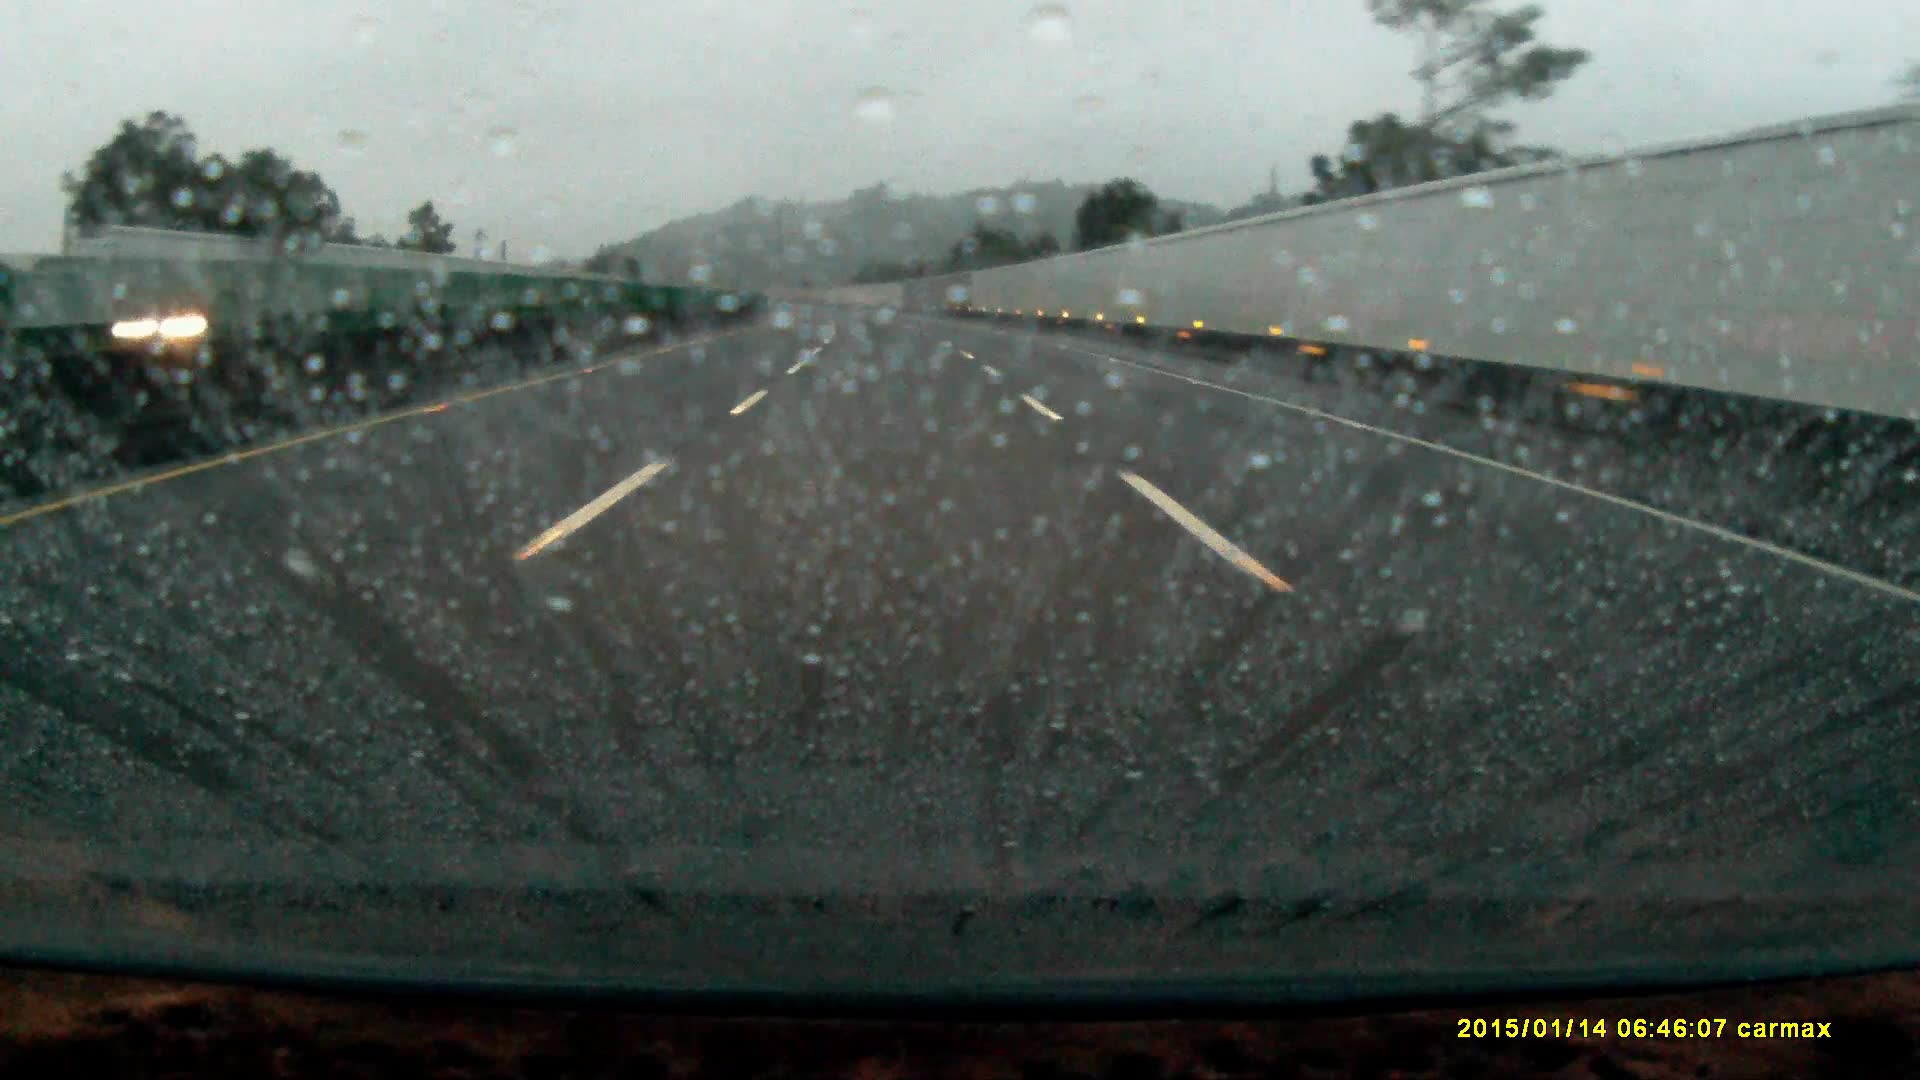vehicle: (105, 291, 272, 347)
